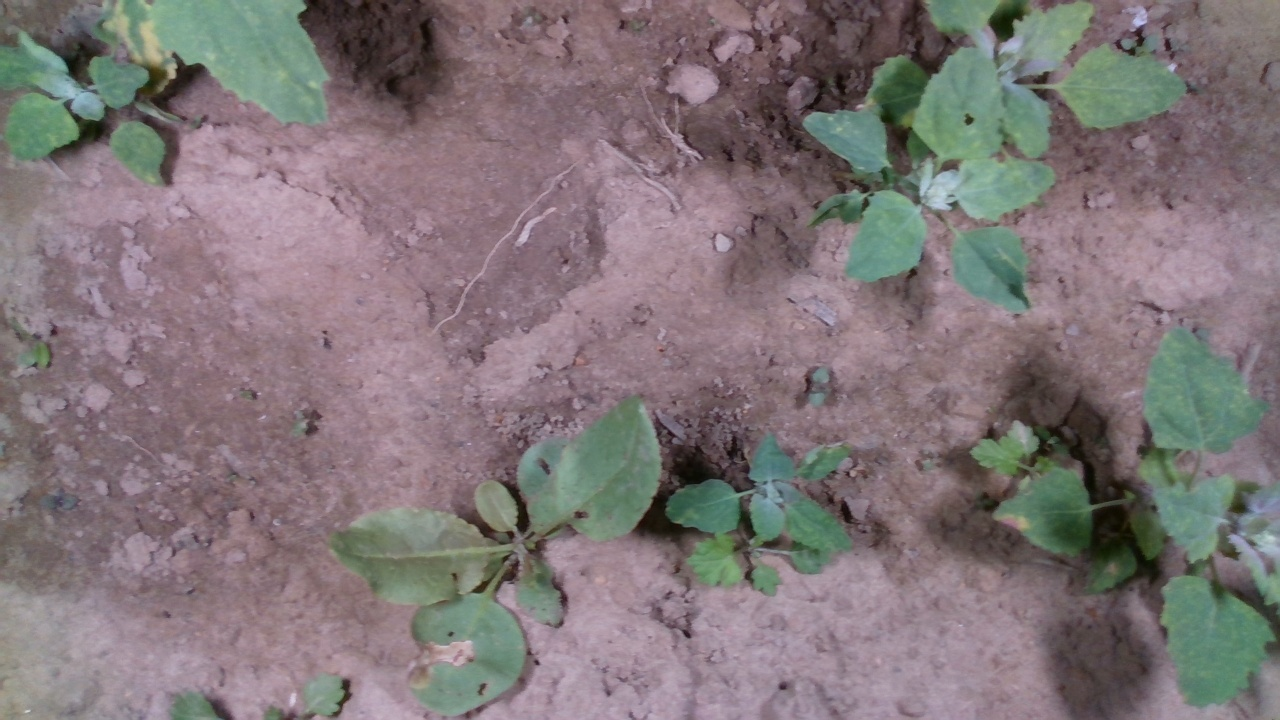weed: (806, 362, 832, 411), (289, 407, 311, 442), (308, 326, 322, 352)
